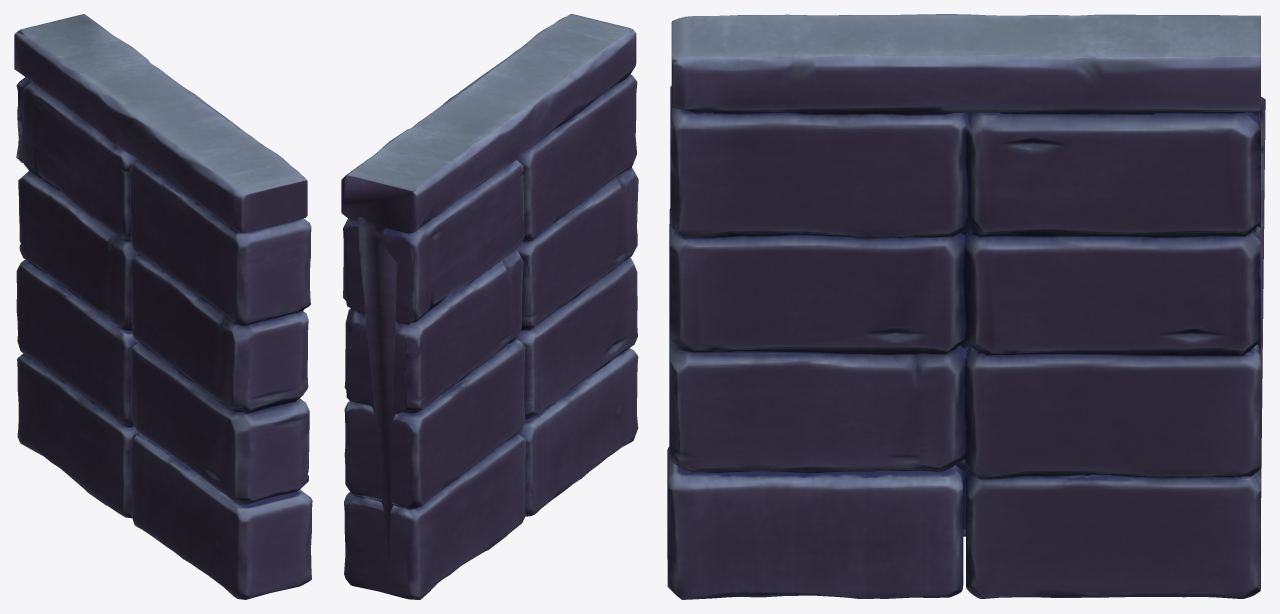
File: SmallWall.glb
The picture shows the model from 3 angles, left to right: view 1: azimuth 30°, elevation 25°; view 2: azimuth 150°, elevation 25°; view 3: azimuth 270°, elevation 25°; orthographic projection. The views are drawn at different scales.
Parts seen in each view (by area): view 1: SmallWall; view 2: SmallWall; view 3: SmallWall.
Part boxes in pixels (box(x1,y1,x2,y2)): SmallWall: box(14, 14, 312, 599); SmallWall: box(341, 14, 638, 599); SmallWall: box(667, 14, 1265, 599).
Bounding box in the file's own units: 2 × 10 × 10.
1 material, 1 textured.
